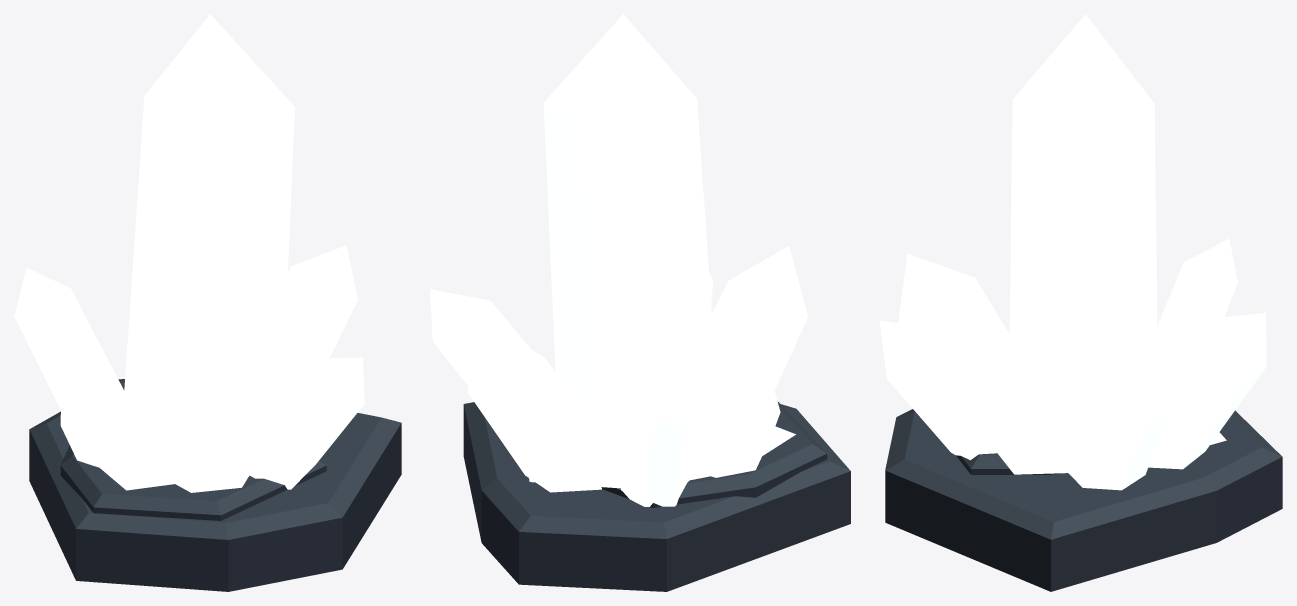
The model's file is wf_crystals.glb.
The picture shows the model from 3 angles, left to right: view 1: azimuth 30°, elevation 25°; view 2: azimuth 150°, elevation 25°; view 3: azimuth 270°, elevation 25°; orthographic projection.
Visible parts, largest first — view 1: wf_crystals; view 2: wf_crystals; view 3: wf_crystals.
Boxes of the visible parts, left/top/right/bottom form: wf_crystals: left=14, top=14, right=401, bottom=591; wf_crystals: left=430, top=14, right=850, bottom=591; wf_crystals: left=879, top=14, right=1282, bottom=591.
Size of the model in its own units: 1.28 by 1.7 by 1.26.
